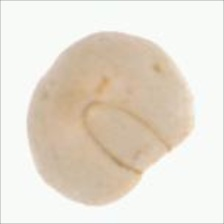L5: (80, 101, 172, 176)
L6: (22, 29, 198, 208)
